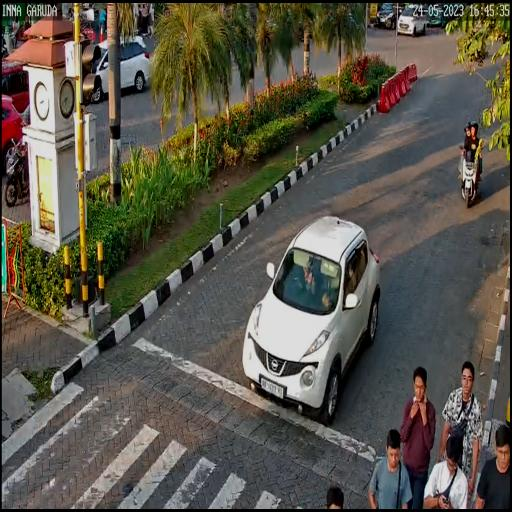mobil: (244, 215, 381, 422)
motor: (458, 144, 483, 208)
